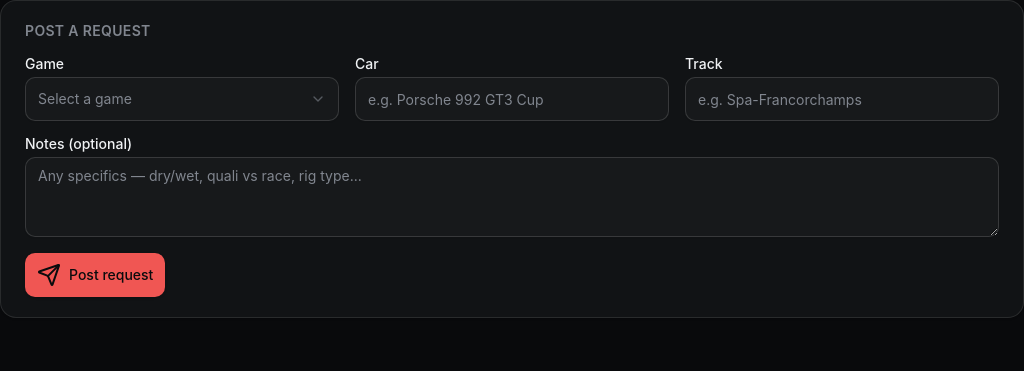
Test: SetupRequestForm › keeps the form and announces a server-side failure
Type "BMW M4 GT3" into the field labelled "Car" at (512, 99), box [355,77,669,121]
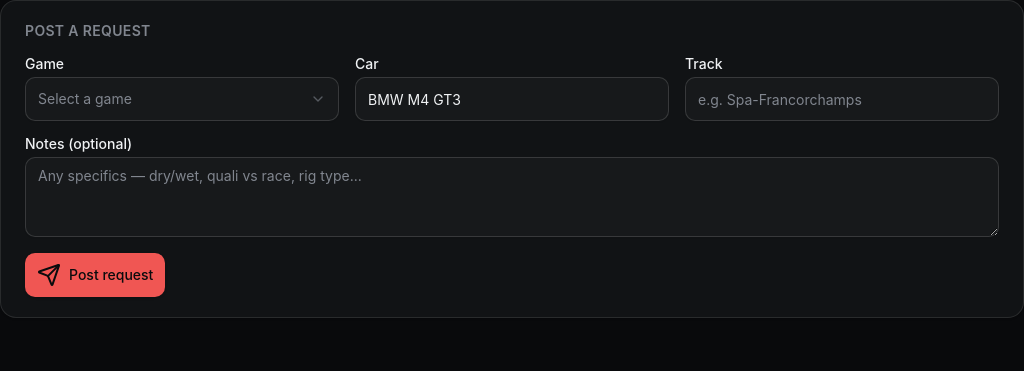
Submit the form
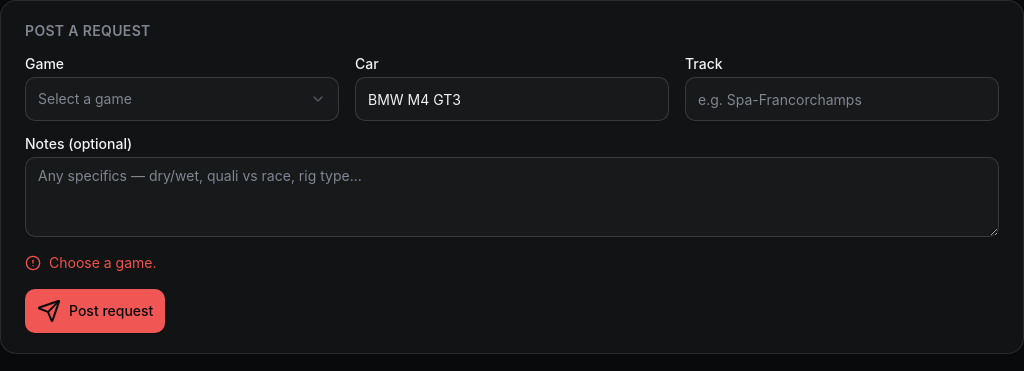
Now the message reads "Choose a game.", box [49,254,156,271]
